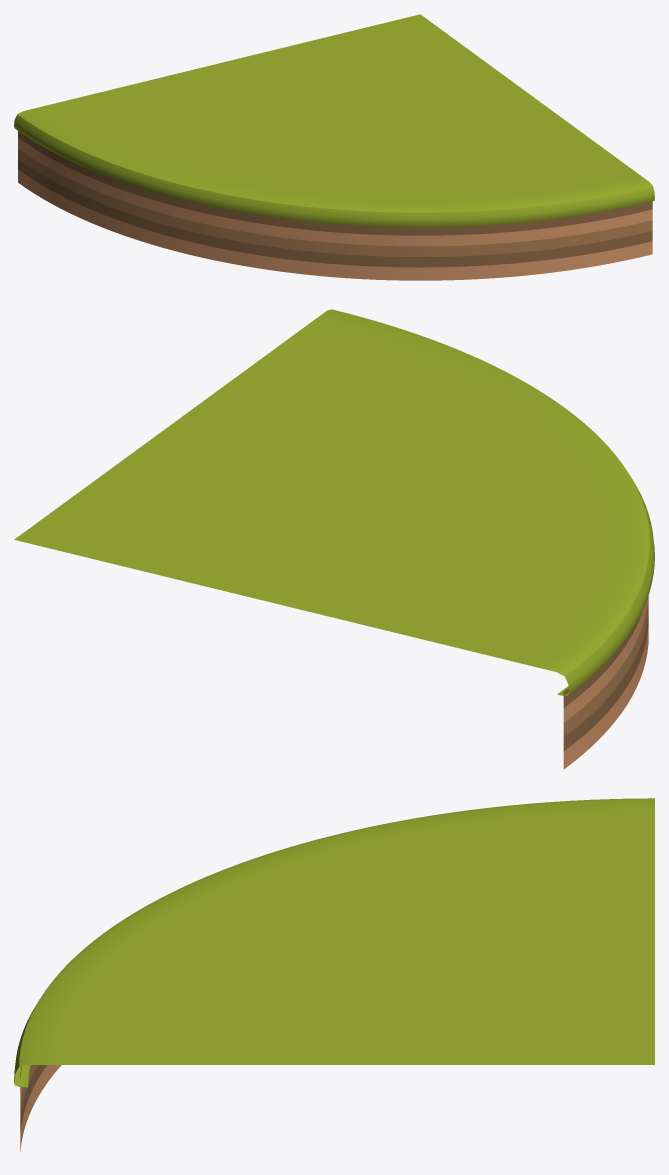
The model's file is platform_grass_corner_round6_tall.gltf.
3 views of the same model, one above another, from view 1: azimuth 30°, elevation 25°; view 2: azimuth 150°, elevation 25°; view 3: azimuth 270°, elevation 25° (orthographic). The views are drawn at different scales.
Visible parts, largest first — view 1: Cube_Grass_Corner_Round6_Tall; view 2: Cube_Grass_Corner_Round6_Tall; view 3: Cube_Grass_Corner_Round6_Tall.
Part boxes in pixels (x1,y1,x2,y2): Cube_Grass_Corner_Round6_Tall: (14,14,654,280); Cube_Grass_Corner_Round6_Tall: (14,309,654,769); Cube_Grass_Corner_Round6_Tall: (14,798,654,1151).
Bounding box in the file's own units: 12.12 × 2 × 12.12.
